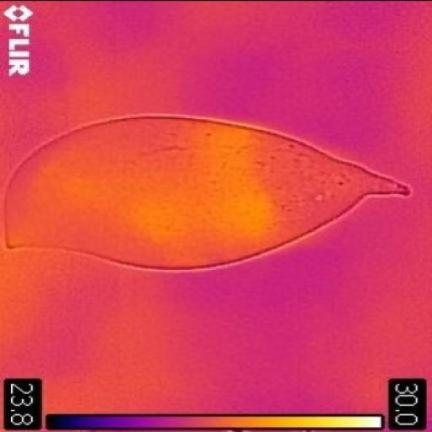mango: (4, 114, 410, 269)
